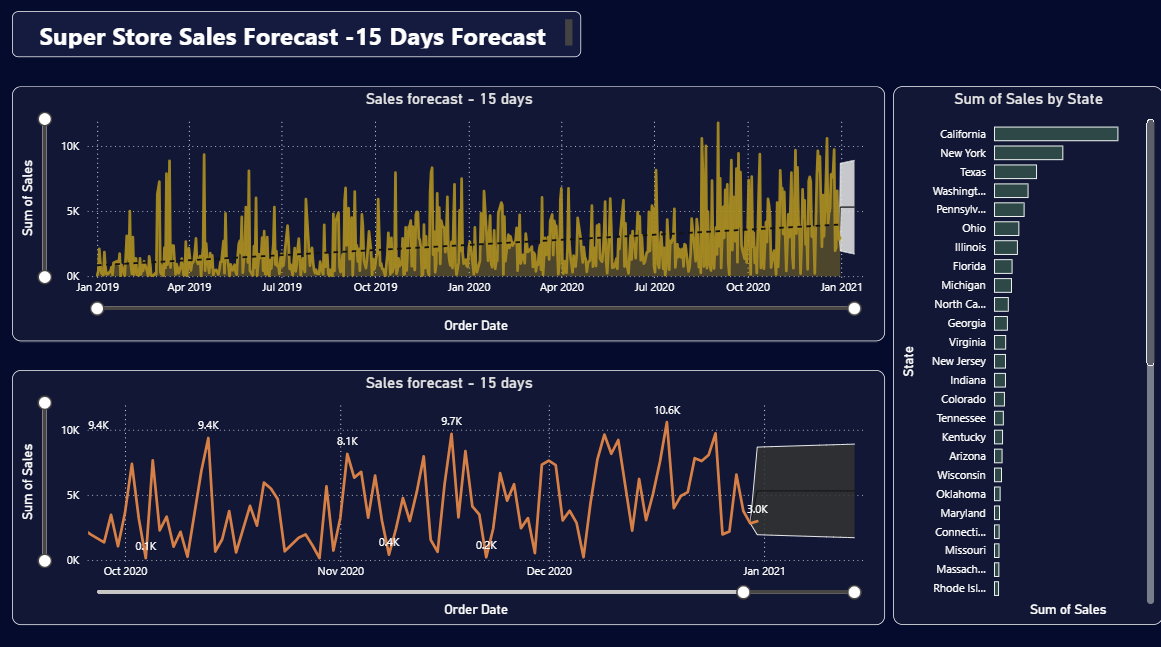

The dashboard page shown, as its layout file describes it:
{"tool":"powerbi","page":{"name":"Page 2","canvas":[1280,720],"ordinal":1},"visuals":[{"type":"lineChart","title":"Sales forecast - 15 days","fields":{"Y":["Sum(Super sales Store.Sales)"],"Category":["Super sales Store.Order Date"]},"box":[16,100.6,958.3,279.8],"z":0},{"type":"textbox","box":[16,17.2,624.5,50.3],"z":1000},{"type":"lineChart","title":"Sales forecast - 15 days","fields":{"Y":["Sum(Super sales Store.Sales)"],"Category":["Super sales Store.Order Date"]},"box":[16,412.3,958.3,279.8],"z":2000},{"type":"clusteredBarChart","fields":{"Y":["Sum(Super sales Store.Sales)"],"Category":["Super sales Store.State"]},"box":[984.1,100.6,295.7,591.4],"z":3000}]}

Visuals, with their boxes in screenshot pixels (x1, y1, x2, y2), scaled from the page's 1280x720 canvas onto the 1161x647 screenshot:
"Sales forecast - 15 days" lineChart: box(15, 90, 884, 342)
textbox: box(15, 15, 581, 61)
"Sales forecast - 15 days" lineChart: box(15, 370, 884, 622)
clusteredBarChart - Sum(Super sales Store.Sales) x Super sales Store.State: box(893, 90, 1160, 622)
